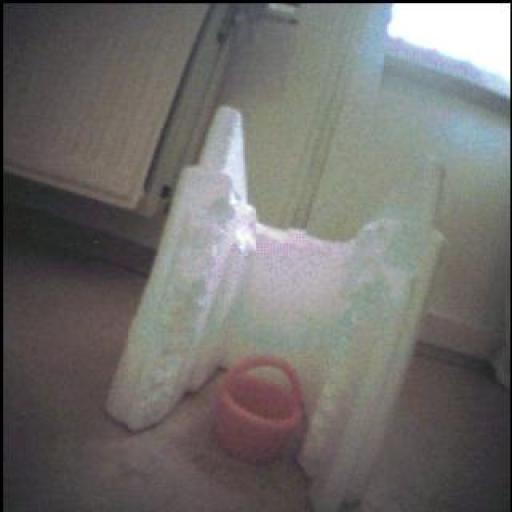Basket: (217, 357, 303, 464)
